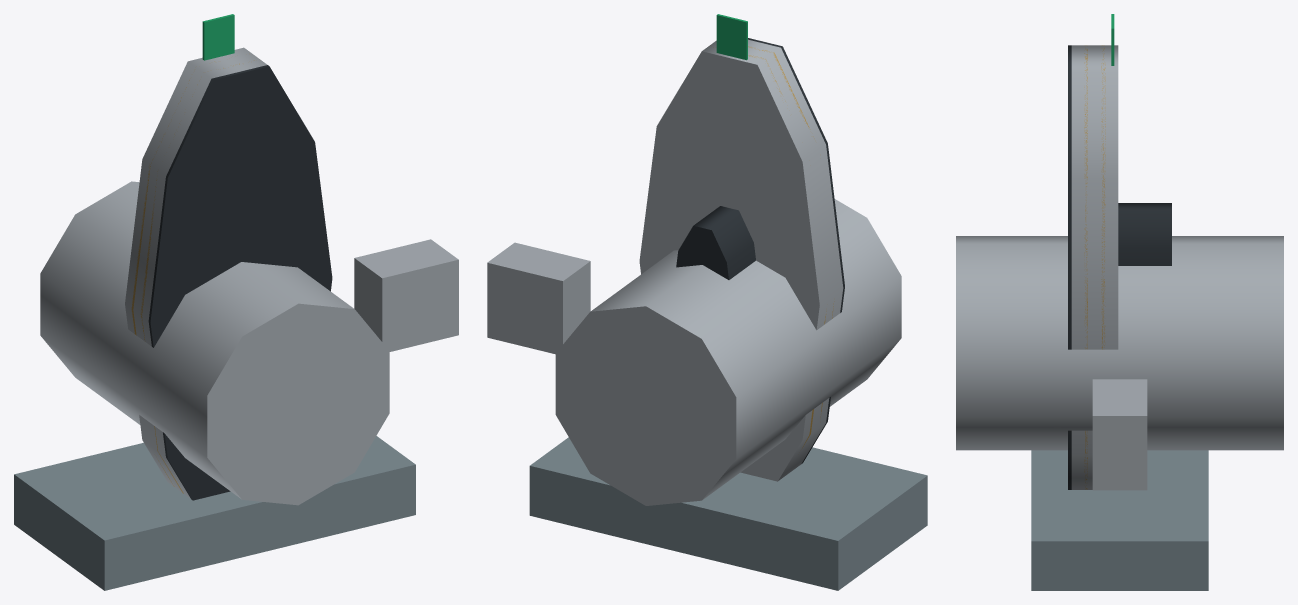
The picture shows the model from 3 angles, left to right: view 1: azimuth 30°, elevation 25°; view 2: azimuth 150°, elevation 25°; view 3: azimuth 270°, elevation 25°; orthographic projection.
Parts seen in each view (by area): view 1: g0.003, g0.002, g1, g0, g0.001, g5; view 2: g0.003, g0, g0.002, g0.001, g4, g5, g1; view 3: g0.003, g0.002, g0, g0.001, g4, g1, g3, g2.
Boxes of the visible parts, left/top/right/bottom form: g0.003: left=40, top=181, right=389, bottom=505; g0.002: left=14, top=436, right=415, bottom=590; g1: left=148, top=65, right=332, bottom=500; g0: left=125, top=47, right=267, bottom=498; g0.001: left=354, top=239, right=458, bottom=351; g5: left=202, top=14, right=234, bottom=60; g0.003: left=555, top=199, right=901, bottom=505; g0: left=639, top=39, right=843, bottom=481; g0.002: left=529, top=437, right=927, bottom=590; g0.001: left=487, top=242, right=590, bottom=354; g4: left=676, top=206, right=755, bottom=279; g5: left=716, top=14, right=747, bottom=60; g1: left=748, top=38, right=844, bottom=463; g0.003: left=956, top=236, right=1283, bottom=450; g0.002: left=1031, top=450, right=1208, bottom=590; g0: left=1071, top=45, right=1118, bottom=489; g0.001: left=1092, top=379, right=1147, bottom=490; g4: left=1118, top=203, right=1171, bottom=265; g1: left=1068, top=45, right=1071, bottom=489; g3: left=1084, top=45, right=1087, bottom=489; g2: left=1101, top=45, right=1105, bottom=349.
Bounding box in the file's own units: 0.16 × 0.2 × 0.12.
